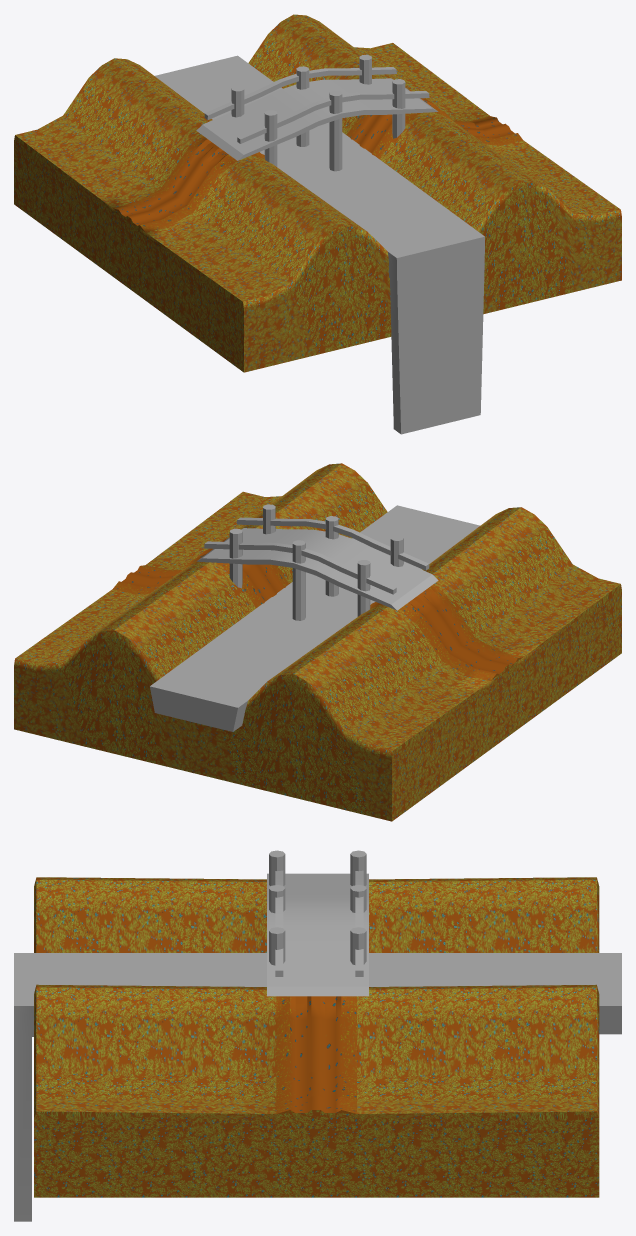
Rendered from Bridge.fbx.
The picture shows the model from 3 angles, top to bottom: view 1: azimuth 30°, elevation 25°; view 2: azimuth 150°, elevation 25°; view 3: azimuth 270°, elevation 25°; orthographic projection. The views are drawn at different scales.
Parts seen in each view (by area): view 1: Mesh_Path_Straight8, pCube4, pCube1, pCube2, pCube3, pCylinder4, pCylinder5, pCylinder6; view 2: Mesh_Path_Straight8, pCube4, pCube1, pCube3, pCube2, pCylinder3, pCylinder1, pCylinder2; view 3: Mesh_Path_Straight8, pCube4, pCube1, pCube3, pCube2, pCylinder5, pCylinder1.
Part boxes in pixels (box(x1,y1,x2,y2)): Mesh_Path_Straight8: box(14, 14, 621, 372); pCube4: box(155, 55, 484, 434); pCube1: box(196, 78, 438, 160); pCube2: box(204, 67, 396, 119); pCube3: box(237, 91, 429, 143); pCylinder4: box(329, 90, 342, 171); pCylinder5: box(392, 79, 405, 138); pCylinder6: box(264, 110, 277, 166); Mesh_Path_Straight8: box(14, 463, 621, 821); pCube4: box(150, 505, 479, 731); pCube1: box(196, 528, 438, 610); pCube3: box(237, 517, 429, 570); pCube2: box(204, 541, 396, 594); pCylinder3: box(292, 540, 305, 620); pCylinder1: box(229, 528, 242, 588); pCylinder2: box(357, 560, 370, 616); Mesh_Path_Straight8: box(34, 877, 599, 1197); pCube4: box(14, 953, 621, 1221); pCube1: box(267, 873, 368, 996); pCube3: box(275, 870, 283, 976); pCube2: box(355, 870, 363, 976); pCylinder5: box(269, 927, 285, 965); pCylinder1: box(350, 927, 366, 964).
Bounding box in the file's own units: 5588 × 3568 × 6333.
